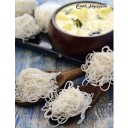idiyappam: (14, 66, 57, 102), (50, 85, 91, 120), (16, 1, 50, 40), (87, 48, 115, 86)
